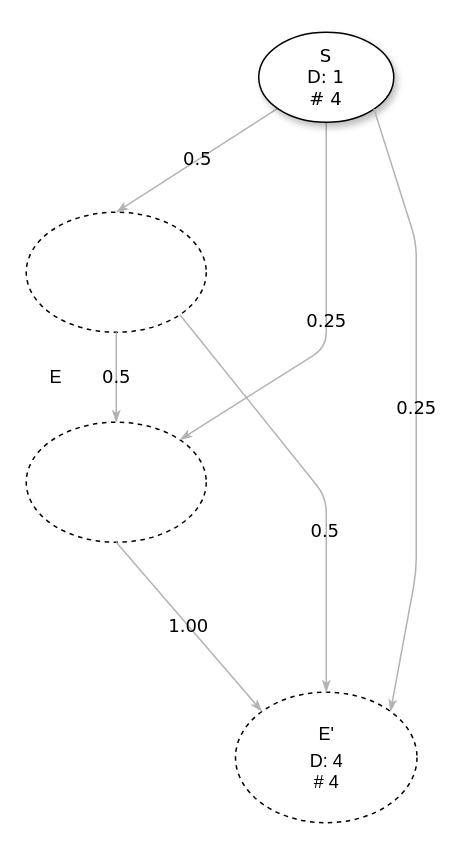
Image size: 462x849. Some labels were removed from this diagram. Here are the shapes that lost their labels. From the top down, the centre of each, then its label:
At [115,271]: "B D: 3 # 2".
At [115,481]: "G D: 2.5 # 2".
